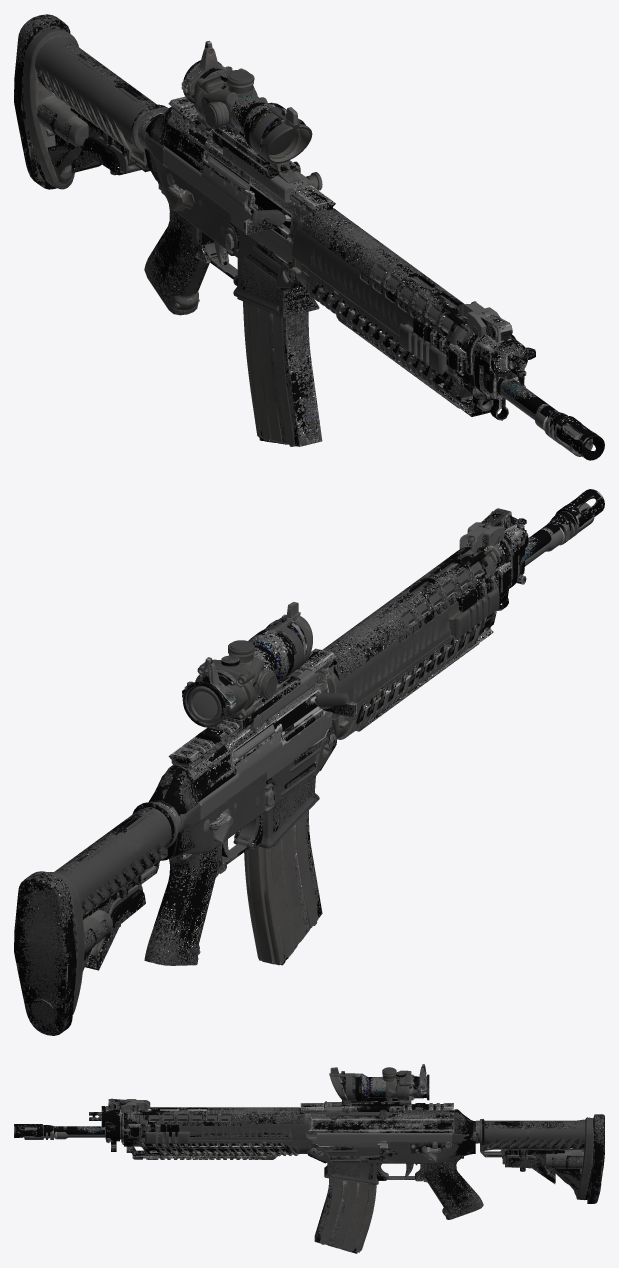
The picture shows the model from 3 angles, top to bottom: view 1: azimuth 30°, elevation 25°; view 2: azimuth 150°, elevation 25°; view 3: azimuth 270°, elevation 25°; orthographic projection. The views are drawn at different scales.
Parts seen in each view (by area): view 1: weapons\models\sg556\weapon_rif_sg556.vmdl_c.body_legacy, weapons\models\sg556\weapon_rif_sg556.vmdl_c.body_hd; view 2: weapons\models\sg556\weapon_rif_sg556.vmdl_c.body_legacy, weapons\models\sg556\weapon_rif_sg556.vmdl_c.body_hd; view 3: weapons\models\sg556\weapon_rif_sg556.vmdl_c.body_legacy, weapons\models\sg556\weapon_rif_sg556.vmdl_c.body_hd.
Boxes of the visible parts, x1,y1,x2,y2 form: weapons\models\sg556\weapon_rif_sg556.vmdl_c.body_legacy: [14, 14, 604, 460]; weapons\models\sg556\weapon_rif_sg556.vmdl_c.body_hd: [22, 28, 593, 456]; weapons\models\sg556\weapon_rif_sg556.vmdl_c.body_legacy: [14, 489, 604, 1035]; weapons\models\sg556\weapon_rif_sg556.vmdl_c.body_hd: [48, 502, 594, 1014]; weapons\models\sg556\weapon_rif_sg556.vmdl_c.body_legacy: [14, 1064, 604, 1253]; weapons\models\sg556\weapon_rif_sg556.vmdl_c.body_hd: [24, 1066, 594, 1252].
Bounding box in the file's own units: 0.0849 × 0.3214 × 0.9231.
3 materials, 3 textured.
